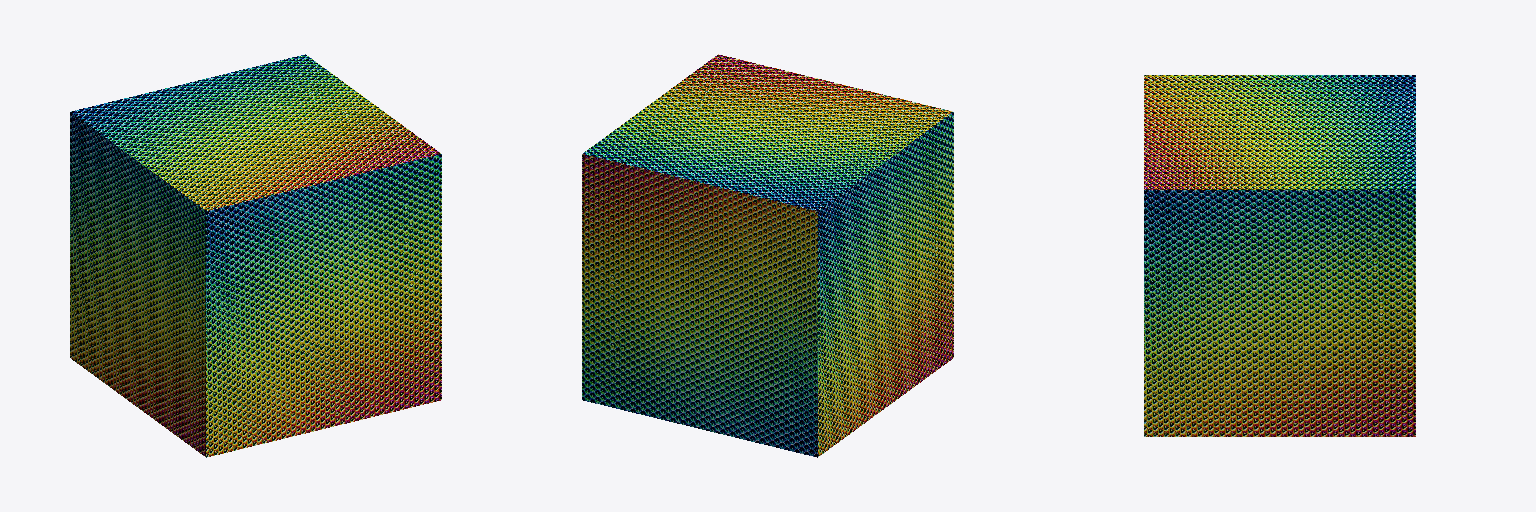
3 views of the same model, side by side, from view 1: azimuth 30°, elevation 25°; view 2: azimuth 150°, elevation 25°; view 3: azimuth 270°, elevation 25° (orthographic).
Visible parts, largest first — view 1: Cube_Scene; view 2: Cube_Scene; view 3: Cube_Scene.
Part boxes in pixels (x1,y1,x2,y2): Cube_Scene: (70,54,441,457); Cube_Scene: (582,54,953,457); Cube_Scene: (1144,75,1415,436).
Bounding box in the file's own units: 1 × 1 × 1.
Materials: 1 (1 with a texture image).